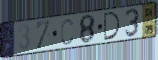3: (124, 7, 141, 38), (17, 23, 32, 52)
7: (36, 19, 51, 51)
8: (79, 13, 97, 44)
C: (60, 18, 74, 47)
D: (103, 10, 122, 42)
